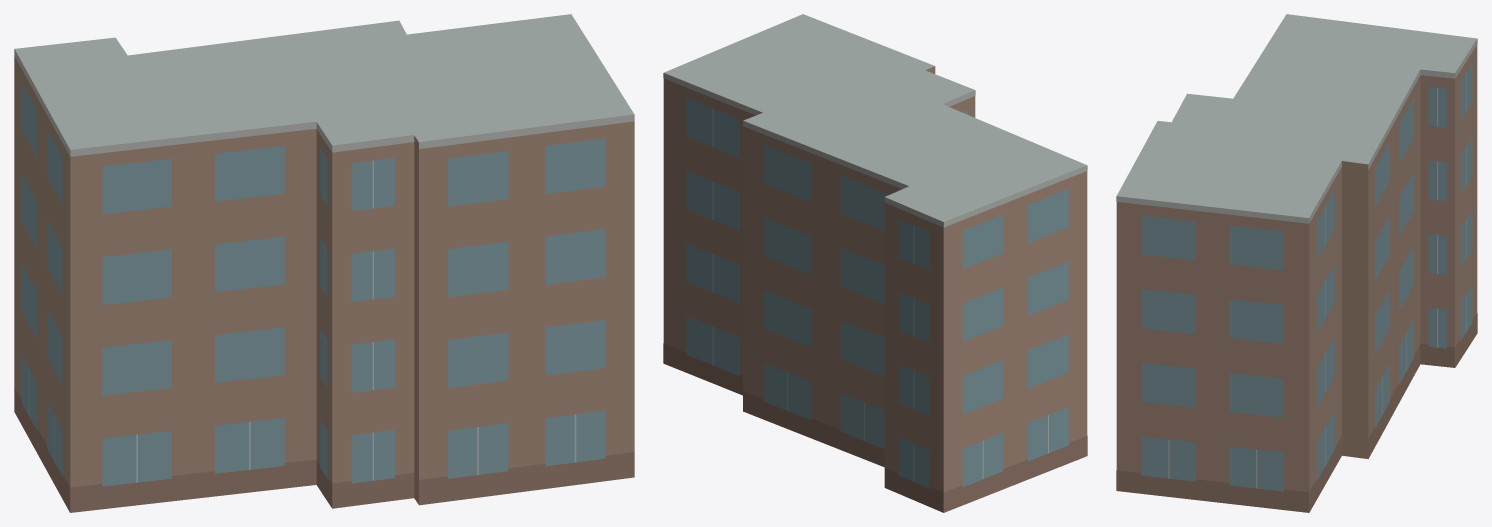
The model's file is survey-upis-32962715.glb.
The picture shows the model from 3 angles, left to right: view 1: azimuth 30°, elevation 25°; view 2: azimuth 150°, elevation 25°; view 3: azimuth 270°, elevation 25°; orthographic projection. The views are drawn at different scales.
Visible parts, largest first — view 1: survey-upis-32962715.tmp; view 2: survey-upis-32962715.tmp; view 3: survey-upis-32962715.tmp.
Part boxes in pixels (x1,y1,x2,y2): survey-upis-32962715.tmp: [14, 14, 634, 512]; survey-upis-32962715.tmp: [663, 14, 1087, 512]; survey-upis-32962715.tmp: [1116, 14, 1477, 512].
Size of the model in its own units: 19.02 by 12.8 by 14.22.
